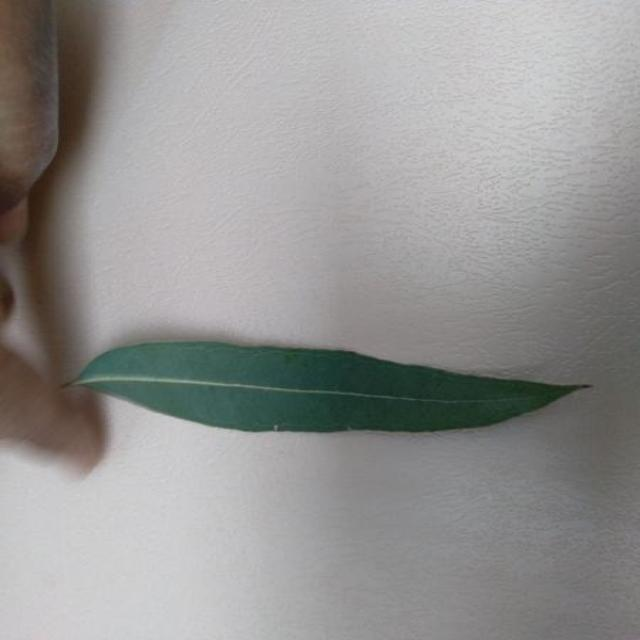eucalpytus: (72, 341, 588, 432)
